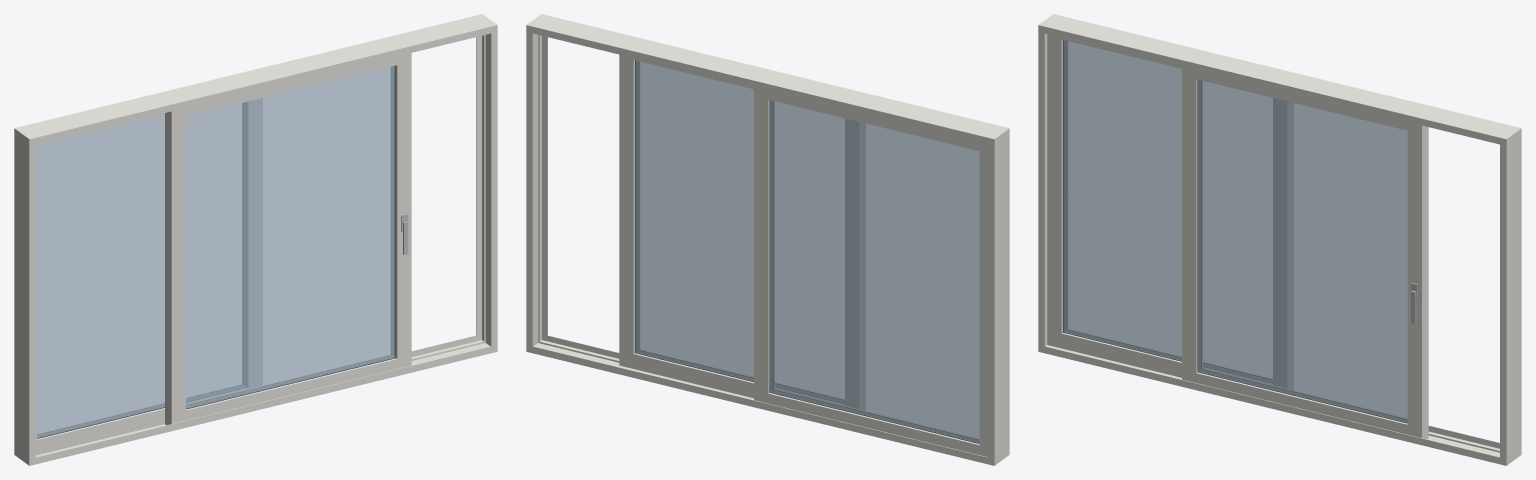
The model's file is premidoor-88.glb.
The picture shows the model from 3 angles, left to right: view 1: azimuth 30°, elevation 25°; view 2: azimuth 150°, elevation 25°; view 3: azimuth 330°, elevation 25°; orthographic projection.
Visible parts, largest first — view 1: Premidoor 88; view 2: Premidoor 88; view 3: Premidoor 88.
Part boxes in pixels (left/top/right/bottom): Premidoor 88: left=14, top=14, right=497, bottom=465; Premidoor 88: left=526, top=14, right=1009, bottom=465; Premidoor 88: left=1038, top=14, right=1521, bottom=465.
Size of the model in its own units: 3.6 by 2.4 by 0.2153.
